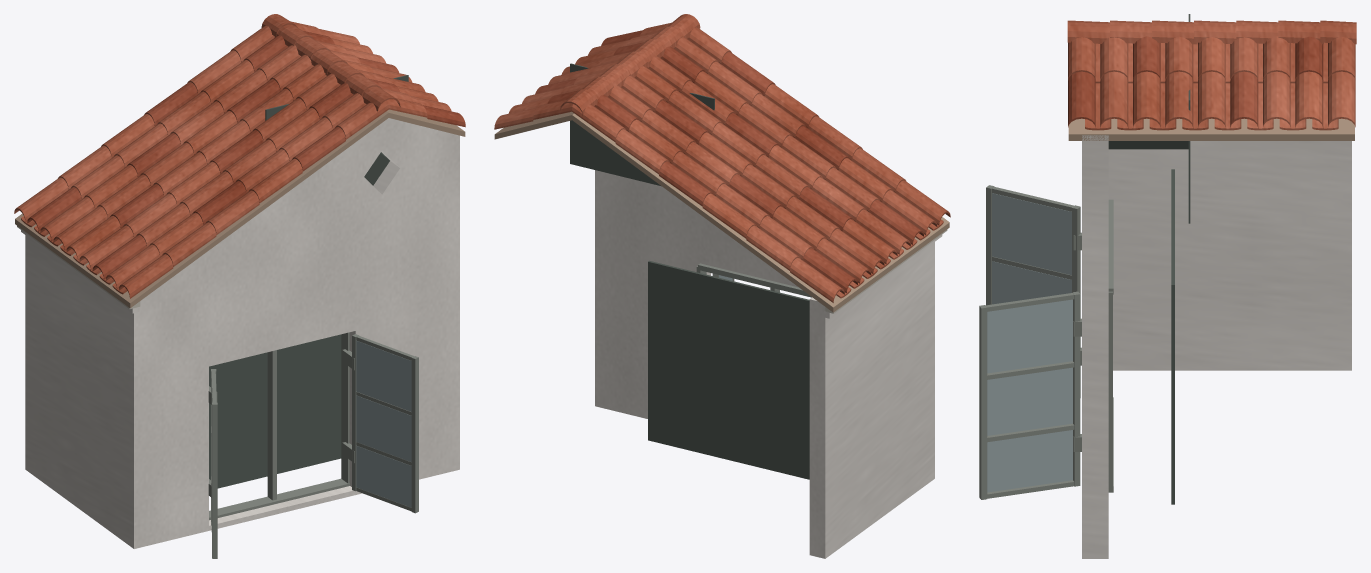
The model's file is changning-hongqiao-2374-diamond-vent-gable-web.glb.
3 renders of one model, left to right at view 1: azimuth 30°, elevation 25°; view 2: azimuth 150°, elevation 25°; view 3: azimuth 270°, elevation 25°, orthographic. The views are drawn at different scales.
Parts seen in each view (by area): view 1: 虹桥路2374号花园住宅菱孔山墙与筒瓦; view 2: 虹桥路2374号花园住宅菱孔山墙与筒瓦; view 3: 虹桥路2374号花园住宅菱孔山墙与筒瓦.
Part boxes in pixels (x1,y1,x2,y2): 虹桥路2374号花园住宅菱孔山墙与筒瓦: (14,14,465,558); 虹桥路2374号花园住宅菱孔山墙与筒瓦: (494,14,950,558); 虹桥路2374号花园住宅菱孔山墙与筒瓦: (979,14,1356,558).
Size of the model in its own units: 2.8 by 3.15 by 2.2.
Materials: 9 (4 with a texture image).
